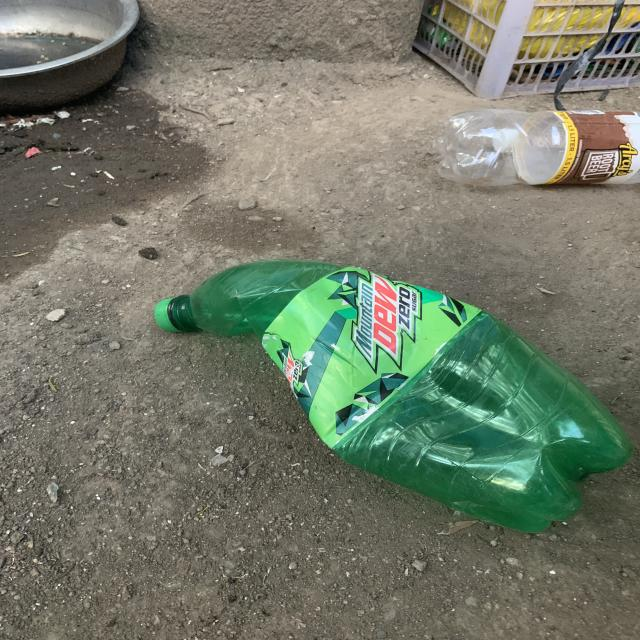Bottle: (154, 259, 633, 532)
